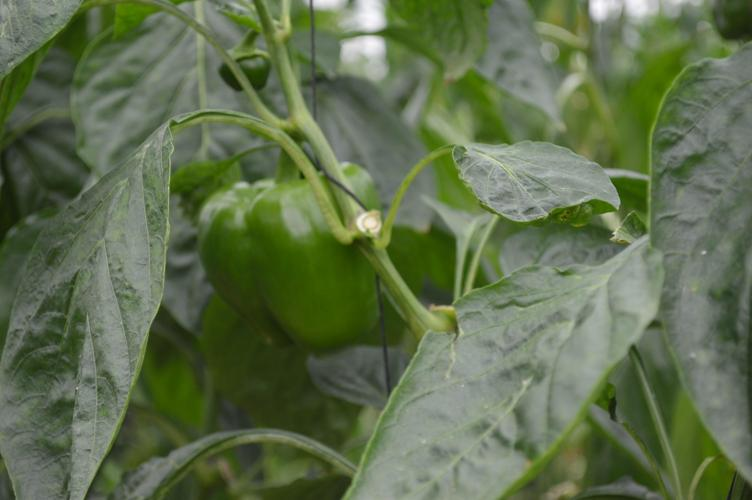BellPepper: (201, 165, 384, 342)
